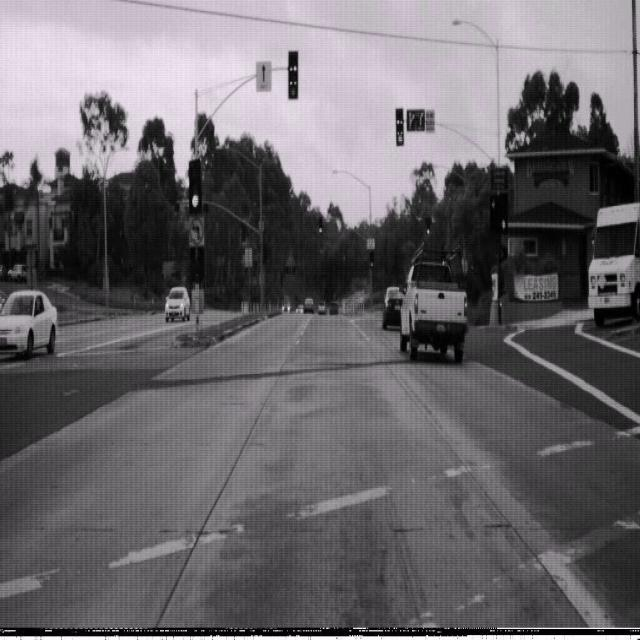noLeftTurn: (188, 215, 205, 248)
